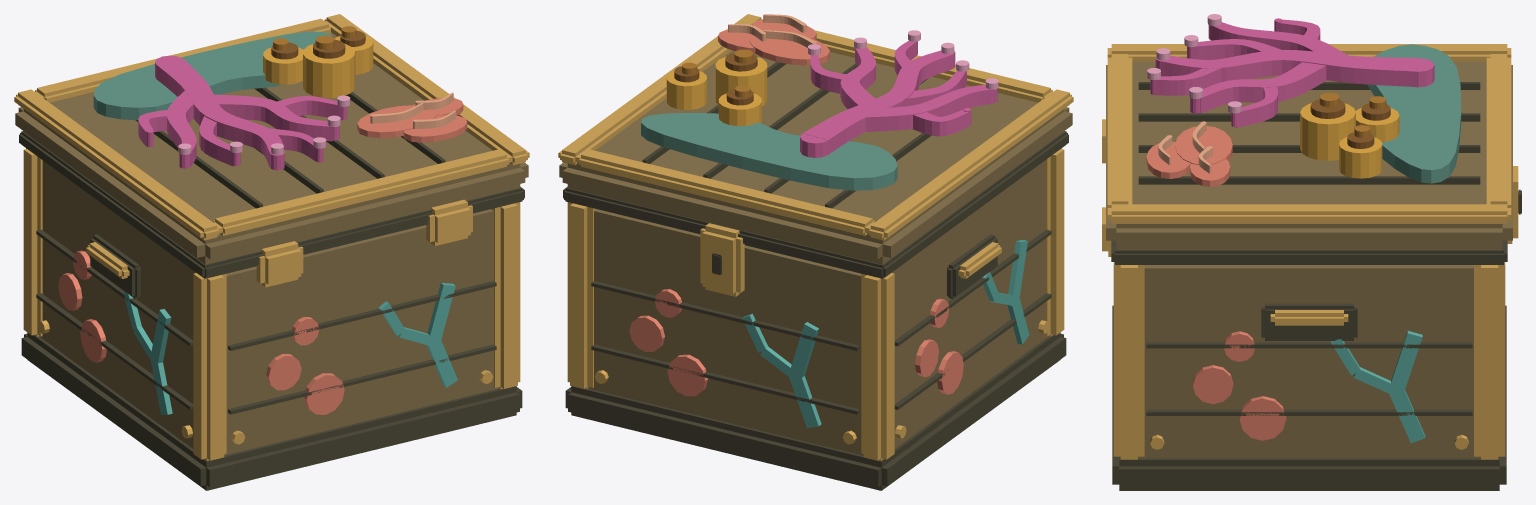
File: crate_recife.fbx
3 renders of one model, left to right at view 1: azimuth 30°, elevation 25°; view 2: azimuth 150°, elevation 25°; view 3: azimuth 270°, elevation 25°, orthographic. The views are drawn at different scales.
Parts seen in each view (by area): view 1: crate_recife_caixa; view 2: crate_recife_caixa; view 3: crate_recife_caixa.
Part boxes in pixels (x1,y1,x2,y2): crate_recife_caixa: [14, 14, 529, 490]; crate_recife_caixa: [558, 14, 1073, 490]; crate_recife_caixa: [1102, 14, 1521, 490].
Bounding box in the file's own units: 2.68 × 2.46 × 2.7.
1 material, 1 textured.
